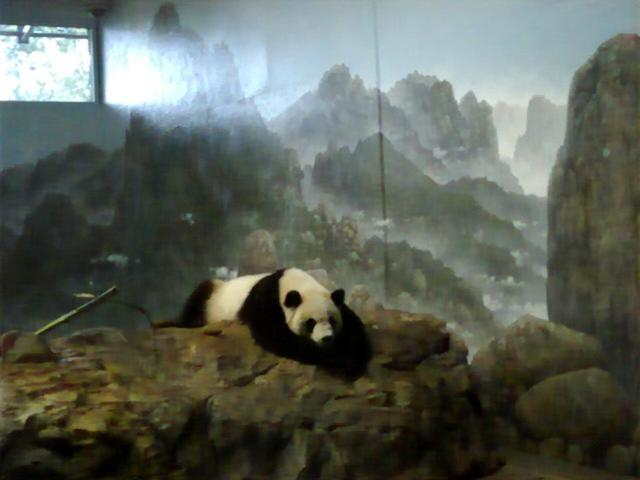panda: (115, 225, 395, 416)
